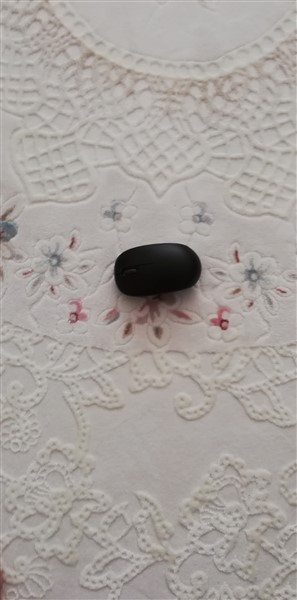mouse: (111, 240, 203, 299)
